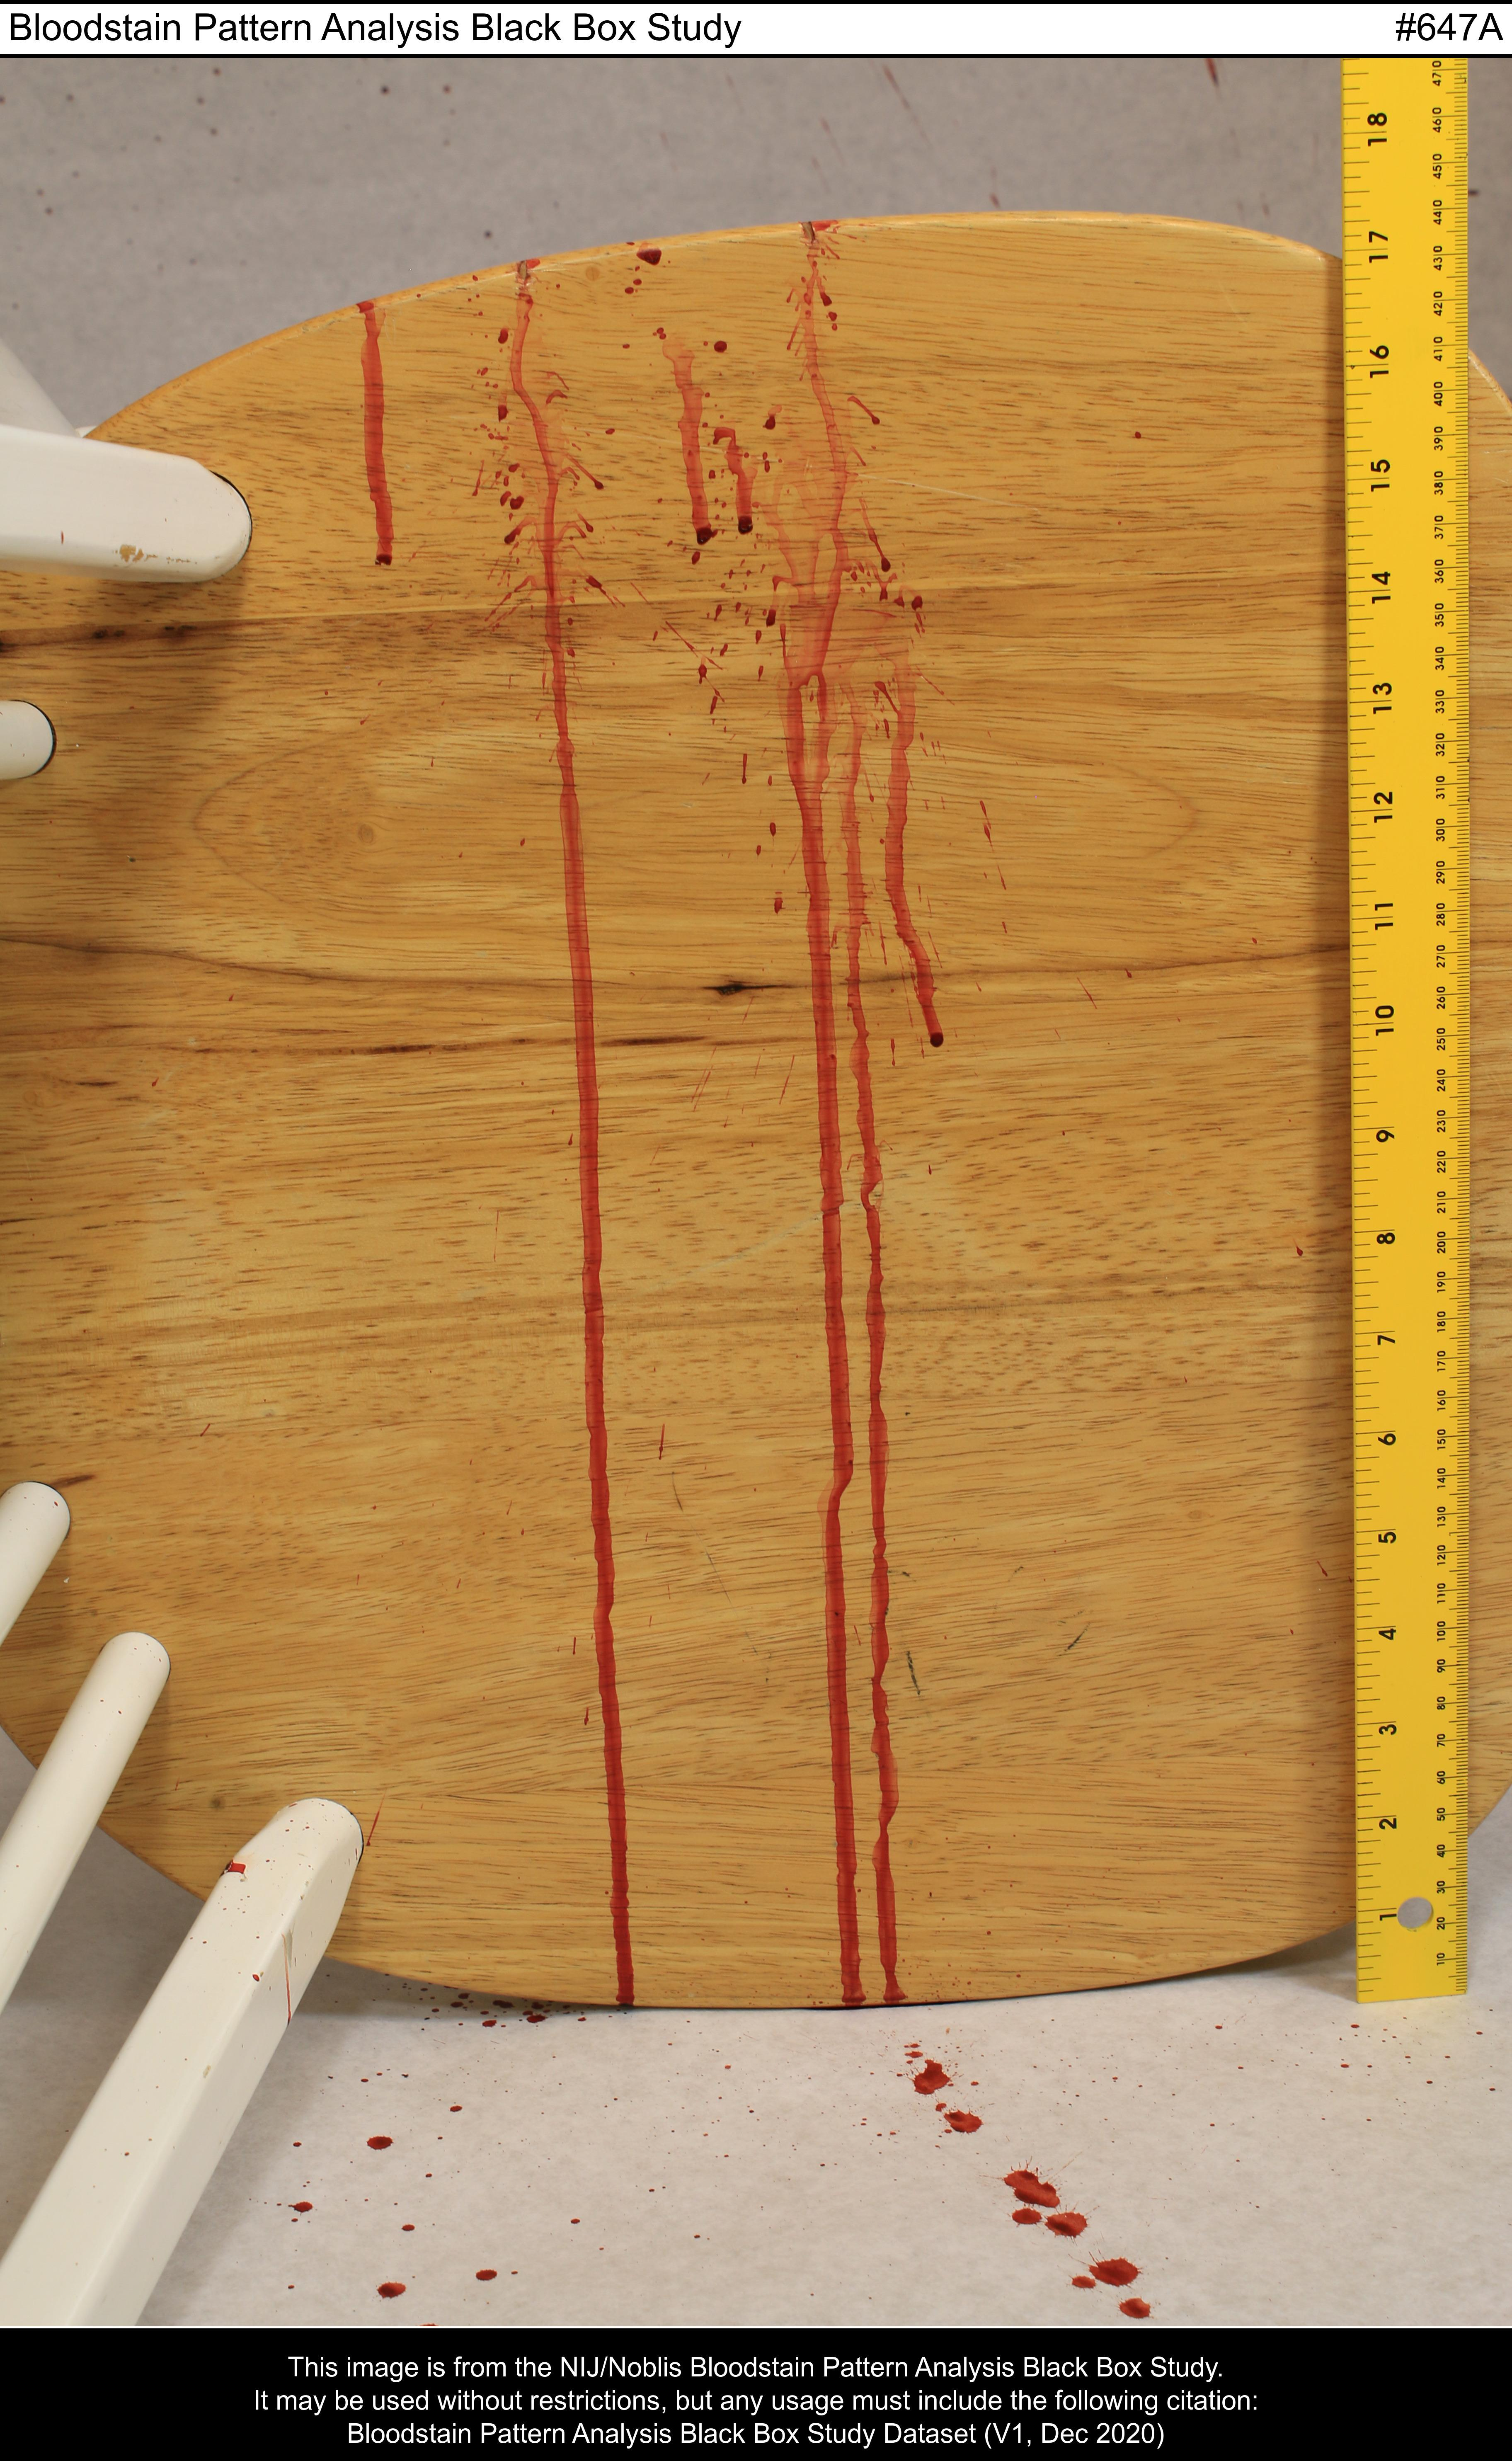Passive: (332, 294, 1280, 2317)
